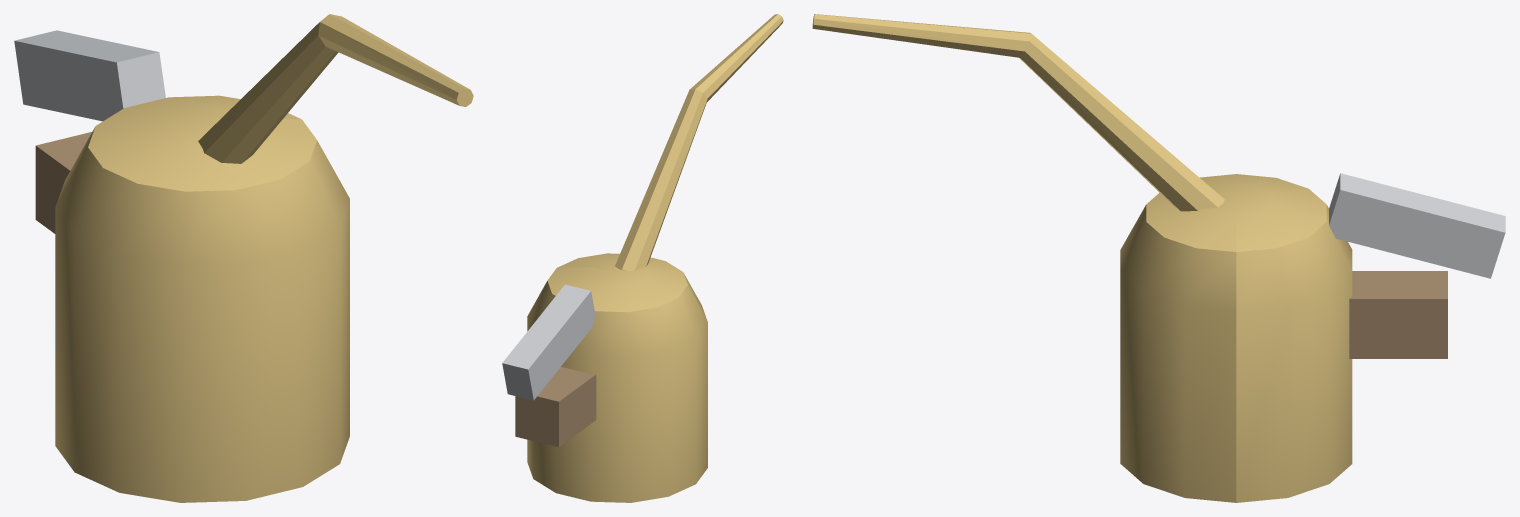
File: steam-era-railway-and-rolling-stock-oil-can-9dc5d99e.glb
3 views of the same model, side by side, from view 1: azimuth 30°, elevation 25°; view 2: azimuth 150°, elevation 25°; view 3: azimuth 270°, elevation 25° (orthographic). The views are drawn at different scales.
Visible parts, largest first — view 1: oil-can; view 2: oil-can; view 3: oil-can.
Part boxes in pixels (<box>): oil-can: <box>14,14,473,502</box>; oil-can: <box>502,14,783,502</box>; oil-can: <box>812,14,1505,502</box>.
Size of the model in its own units: 0.18 by 0.366 by 0.5243.
